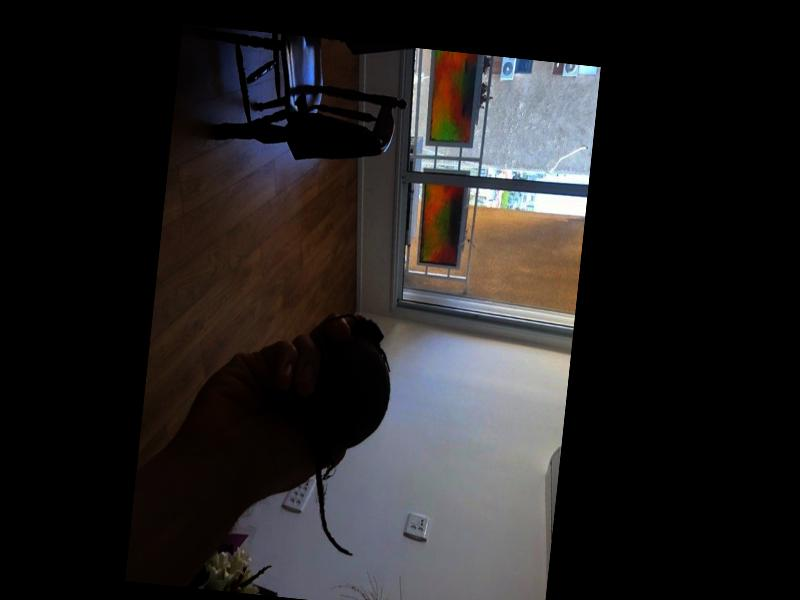Beet: (293, 309, 396, 555)
